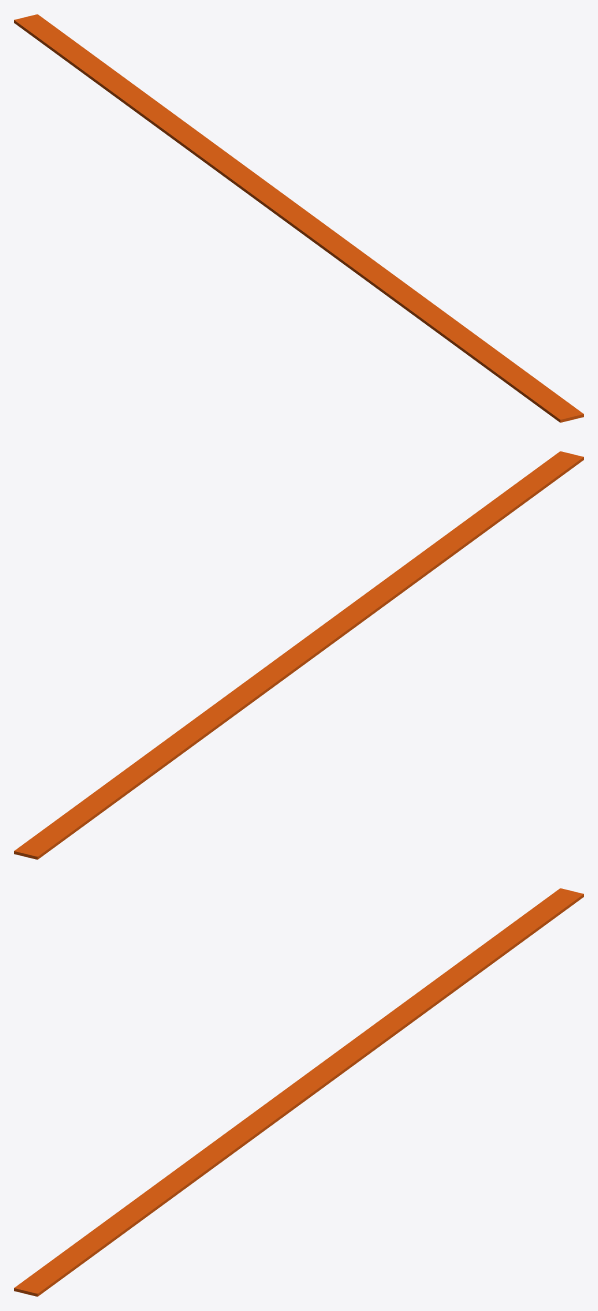
Rendered from SM_Correa_100.fbx.
3 renders of one model, top to bottom at view 1: azimuth 30°, elevation 25°; view 2: azimuth 150°, elevation 25°; view 3: azimuth 330°, elevation 25°, orthographic.
Visible parts, largest first — view 1: SM_Correa_100; view 2: SM_Correa_100; view 3: SM_Correa_100.
Boxes of the visible parts, <box> form: SM_Correa_100: <box>14,14,583,422</box>; SM_Correa_100: <box>14,451,583,859</box>; SM_Correa_100: <box>14,888,583,1296</box>.
Size of the model in its own units: 0.025 by 0.003 by 1.
